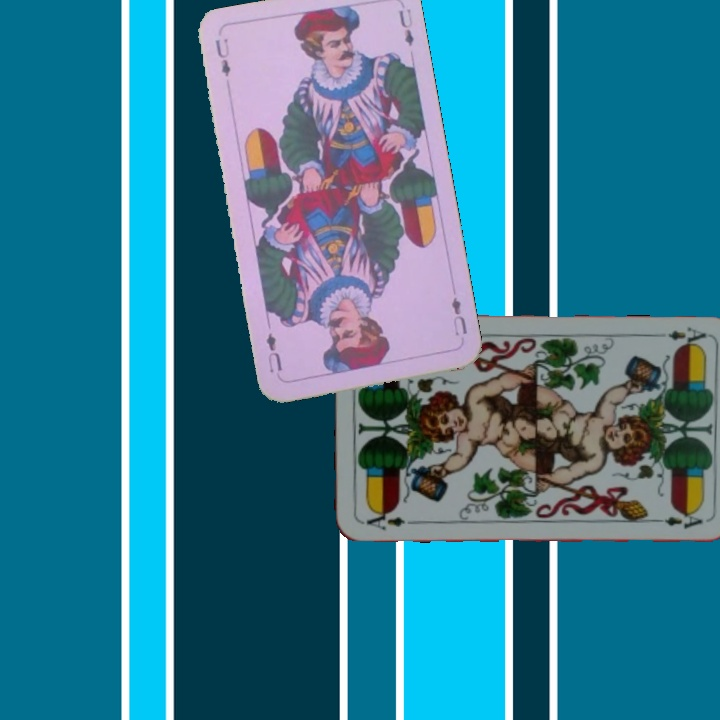EA: (650, 323, 708, 350), (363, 506, 418, 532)
EU: (447, 293, 470, 338), (211, 34, 233, 80)
